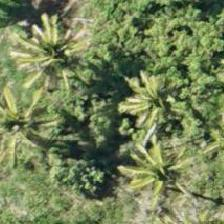coconut_tree: (106, 62, 196, 152), (7, 9, 97, 99), (111, 131, 201, 221), (0, 80, 59, 170)
